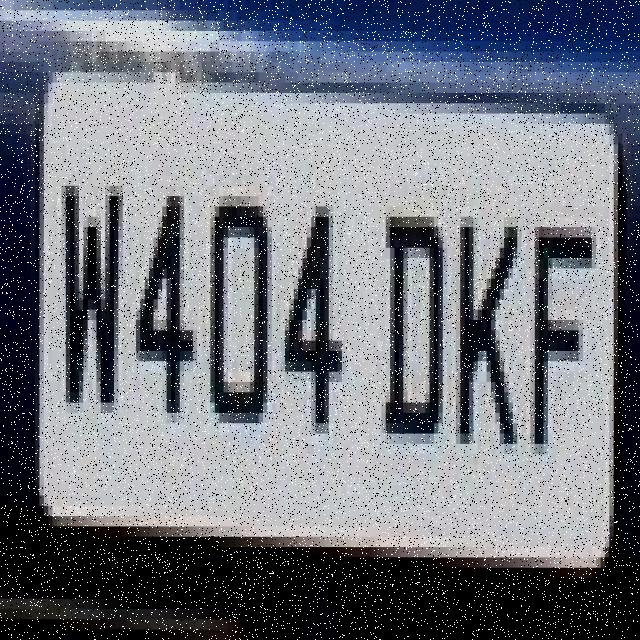licenseplate: (39, 77, 614, 568)
